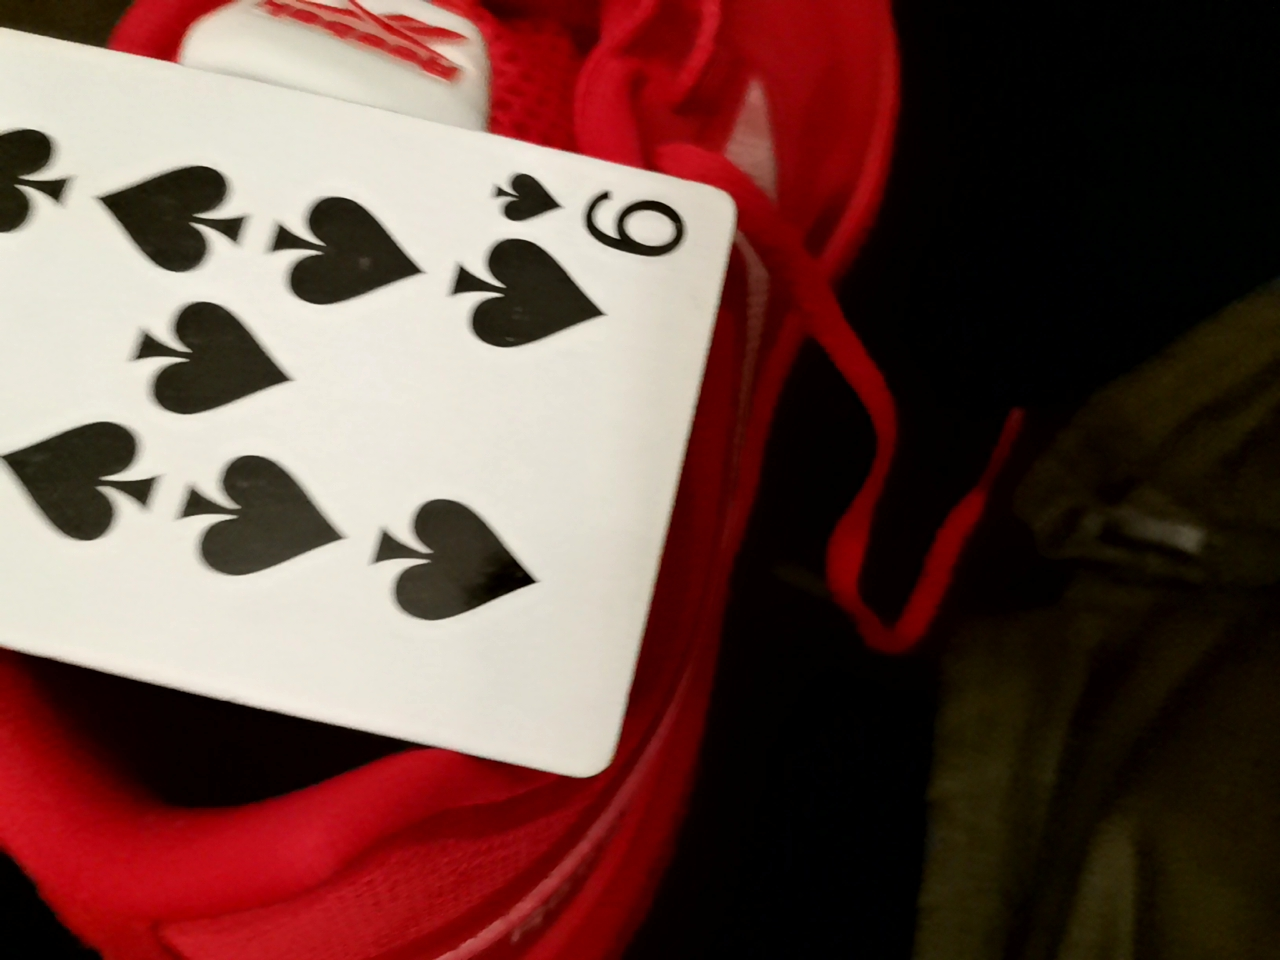ht 9: (5, 40, 765, 781)
